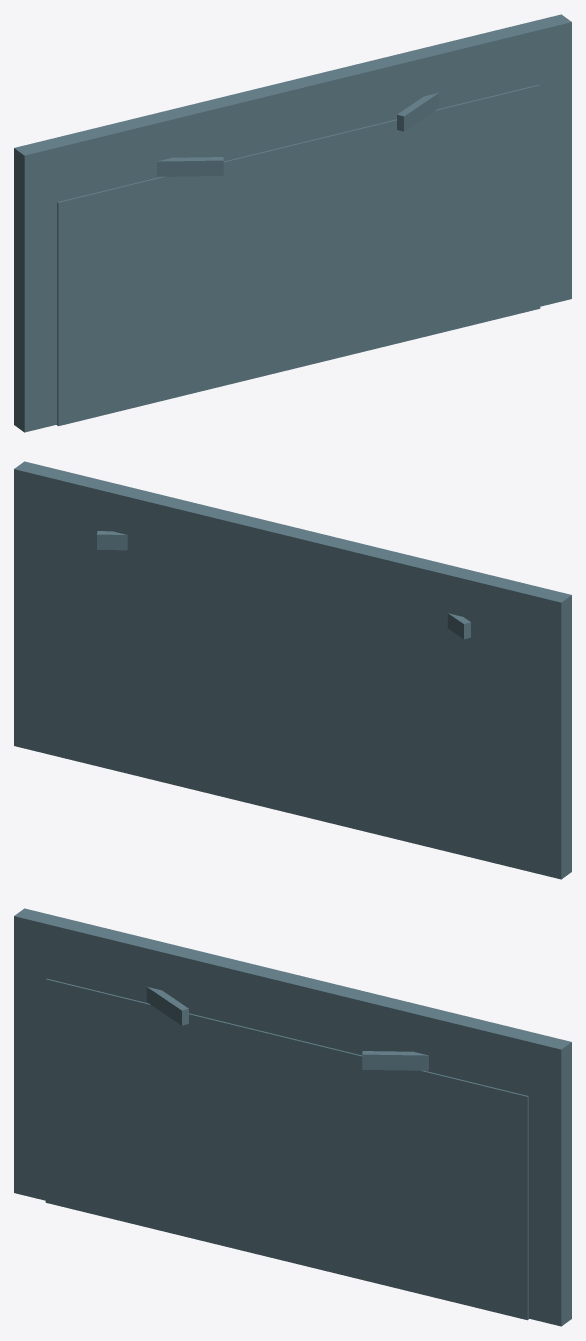
Rendered from SM_Int_Corvette_Bridge_Viewport.fbx.
3 renders of one model, top to bottom at view 1: azimuth 30°, elevation 25°; view 2: azimuth 150°, elevation 25°; view 3: azimuth 330°, elevation 25°, orthographic.
Parts seen in each view (by area): view 1: SM_Int_Corvette_Bridge_Viewport; view 2: SM_Int_Corvette_Bridge_Viewport; view 3: SM_Int_Corvette_Bridge_Viewport.
Part boxes in pixels (bbox=[...]): SM_Int_Corvette_Bridge_Viewport: bbox=[14, 14, 571, 432]; SM_Int_Corvette_Bridge_Viewport: bbox=[14, 461, 571, 879]; SM_Int_Corvette_Bridge_Viewport: bbox=[14, 908, 571, 1326].
Size of the model in its own units: 300 by 31.7 by 146.
